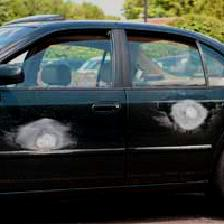door_dent: (6, 99, 89, 160), (157, 94, 217, 135)
